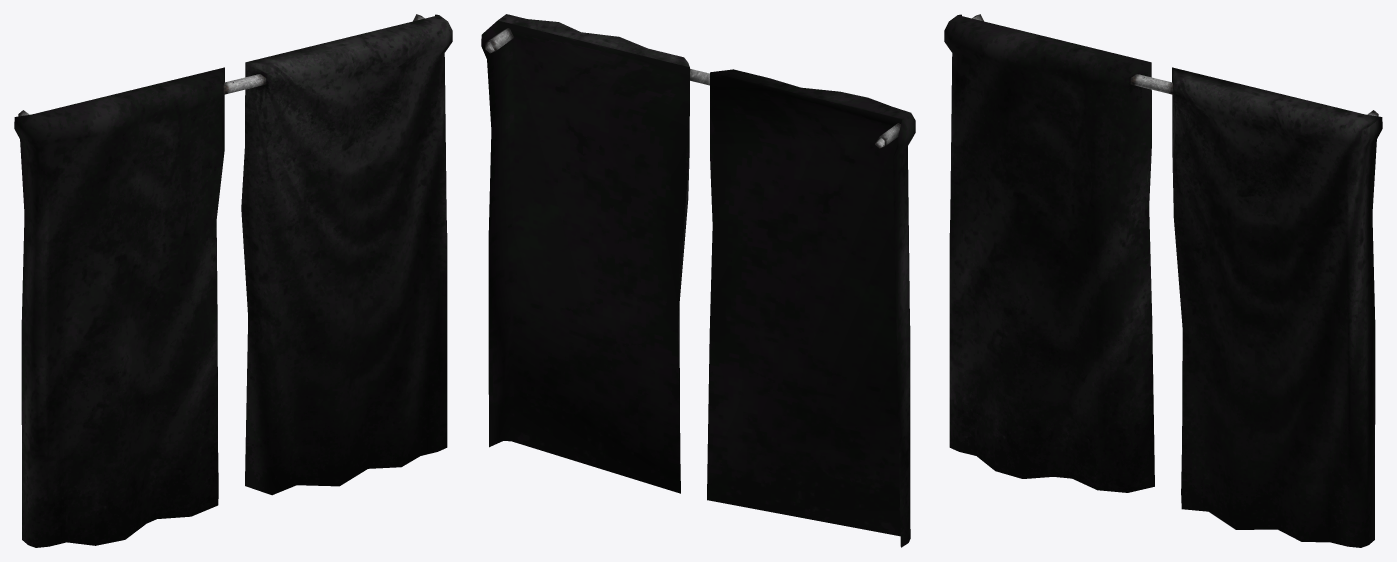
Rendered from curtain09_closed.dae.
3 views of the same model, side by side, from view 1: azimuth 30°, elevation 25°; view 2: azimuth 150°, elevation 25°; view 3: azimuth 330°, elevation 25° (orthographic).
Visible parts, largest first — view 1: curtain01_closed; view 2: curtain01_closed; view 3: curtain01_closed.
Boxes of the visible parts, bbox=[...] form: curtain01_closed: bbox=[14, 14, 452, 547]; curtain01_closed: bbox=[481, 14, 915, 547]; curtain01_closed: bbox=[944, 14, 1382, 547].
Size of the model in its own units: 3.74 by 3.68 by 0.508.
